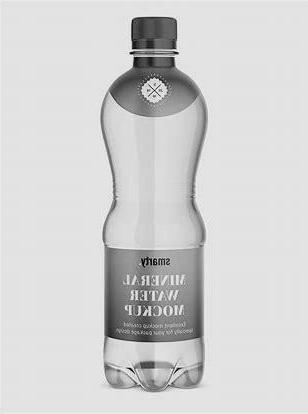bottle: (99, 10, 209, 393)
